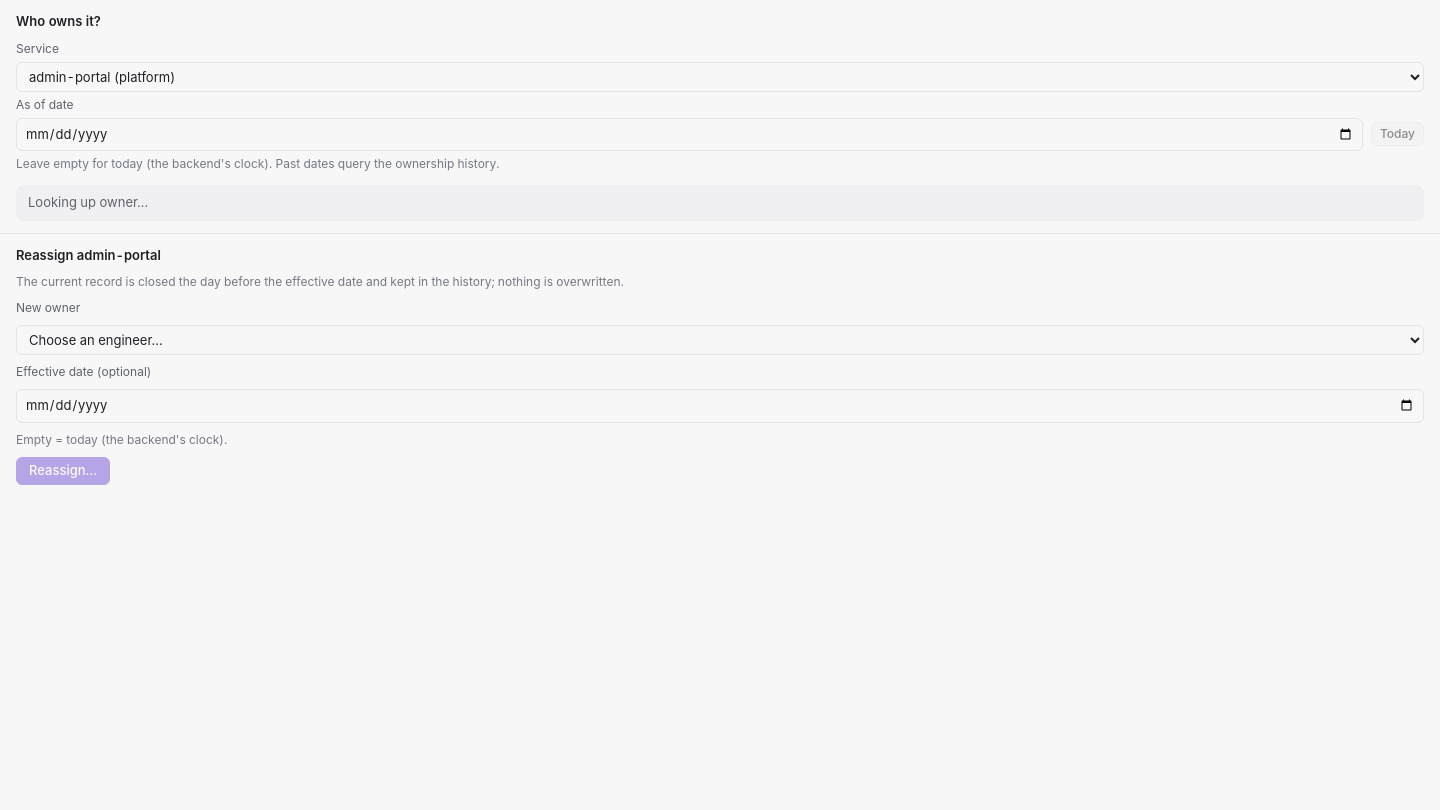
Test case: OwnersPanel service selection and the demo sequence › payments-api -> reassign to Ravi -> who owned it in July? shows the owner the API returns for July, not the new one
Select "payments-api (payments-platform)" in the dropdown labelled "Service". click: (720, 76)
box: x1=16 y1=62 x2=1424 y2=92
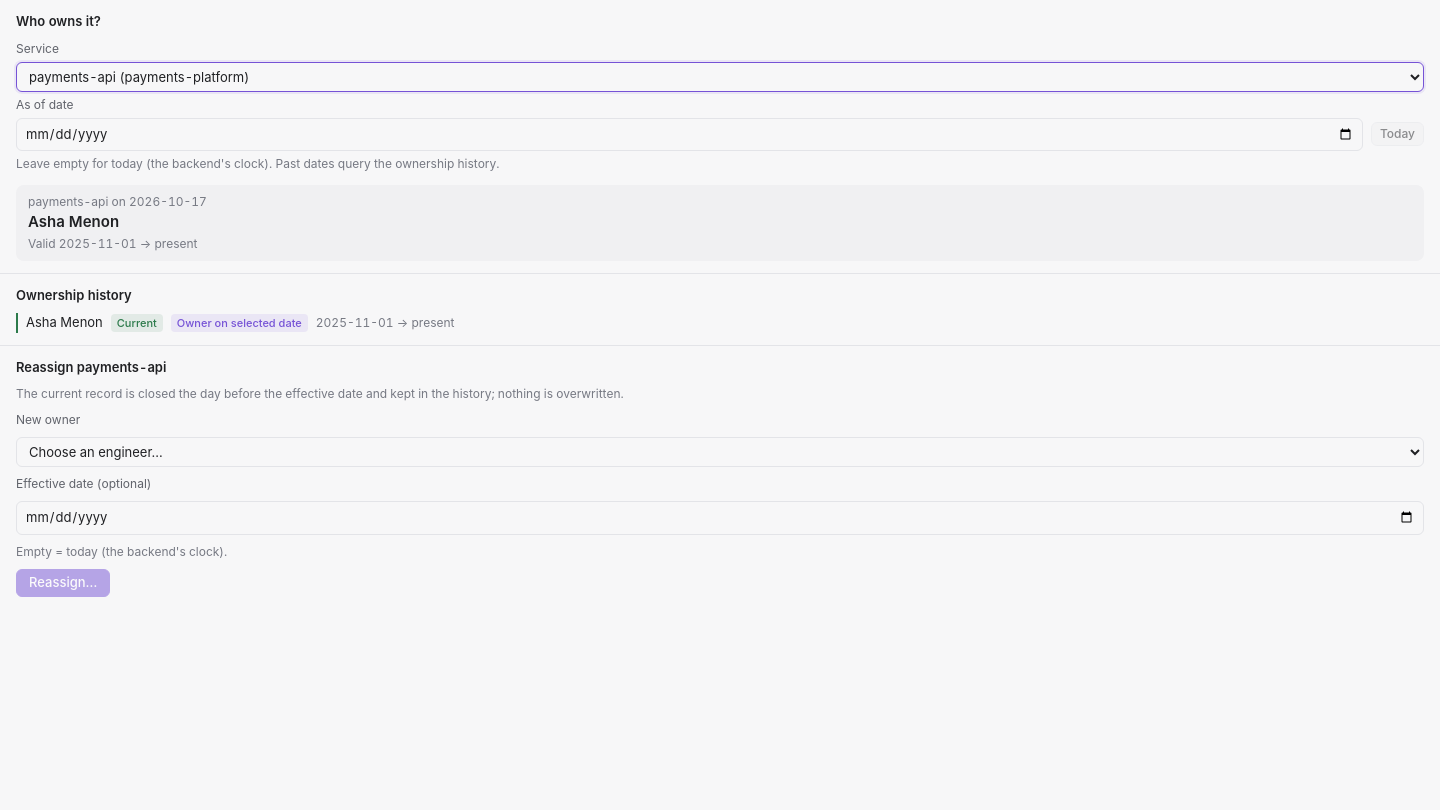
Check: the text "Asha Menon" below "2026-10-17" is shown, box x1=28 y1=212 x2=119 y2=231
Select "Ravi Iyer (platform)" in the dropdown labelled "New owner". click: (720, 452)
box: x1=16 y1=437 x2=1424 y2=467
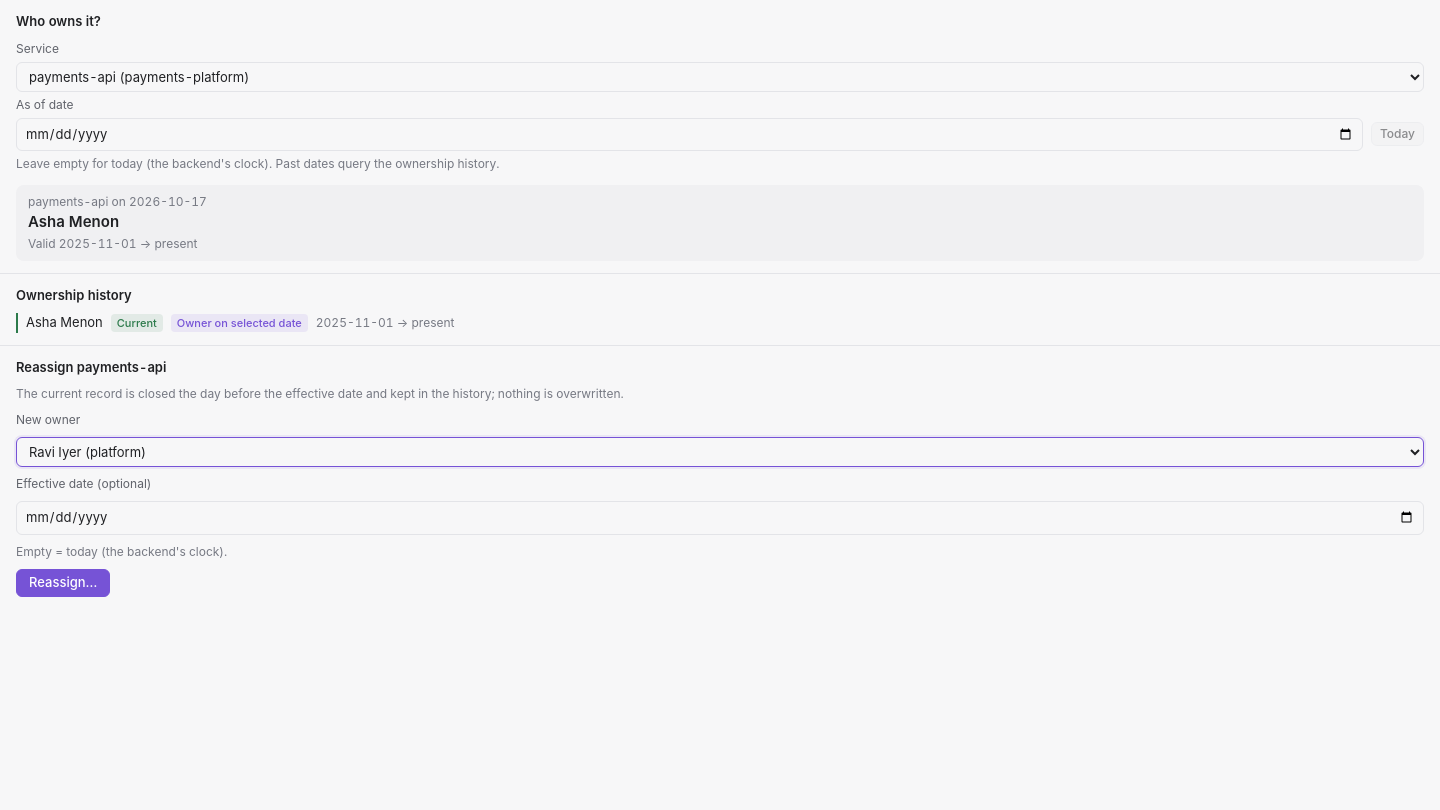
Click the button "Reassign…". click: click(63, 582)
box: x1=16 y1=568 x2=110 y2=596
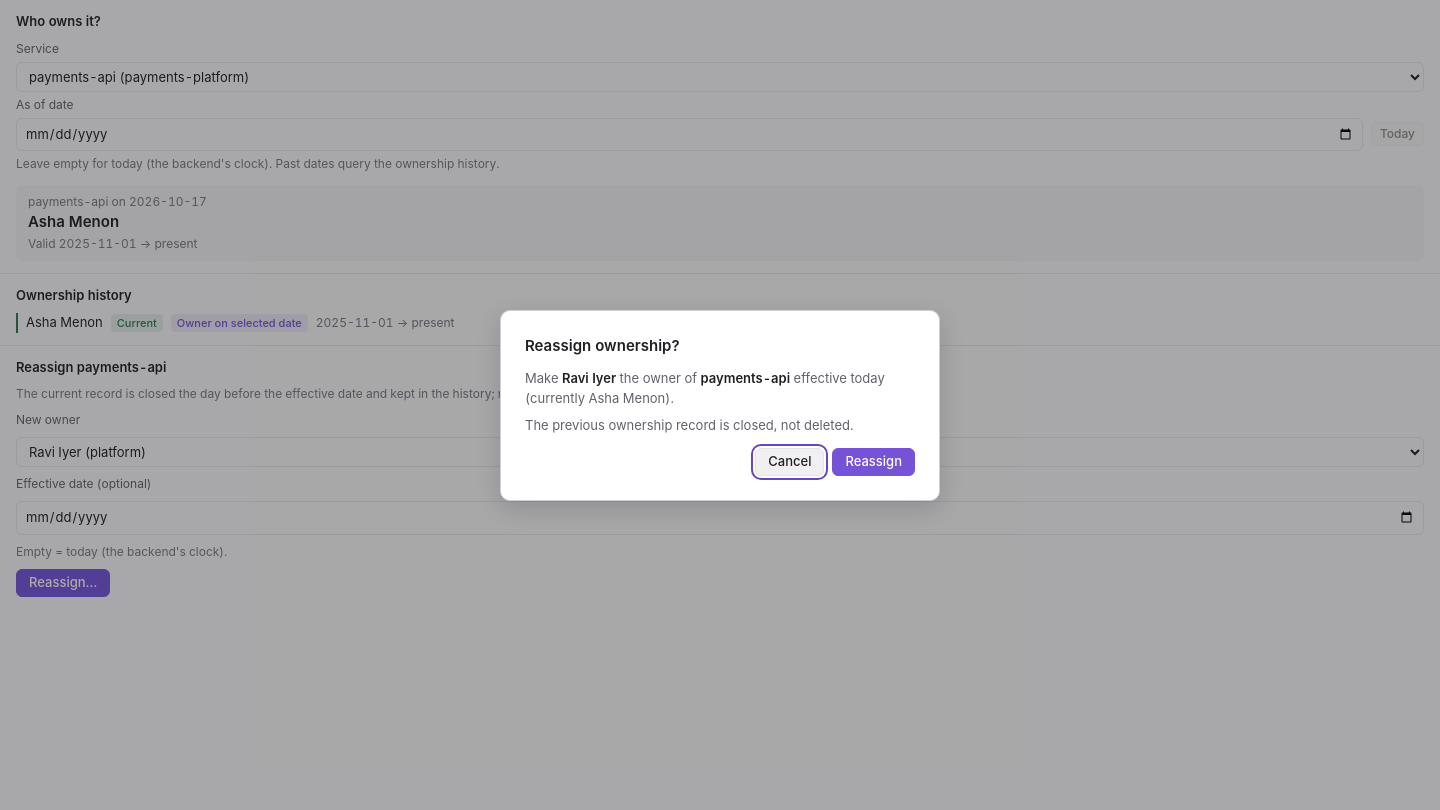
Click the button "Reassign". click: click(874, 462)
box: x1=832 y1=448 x2=915 y2=476
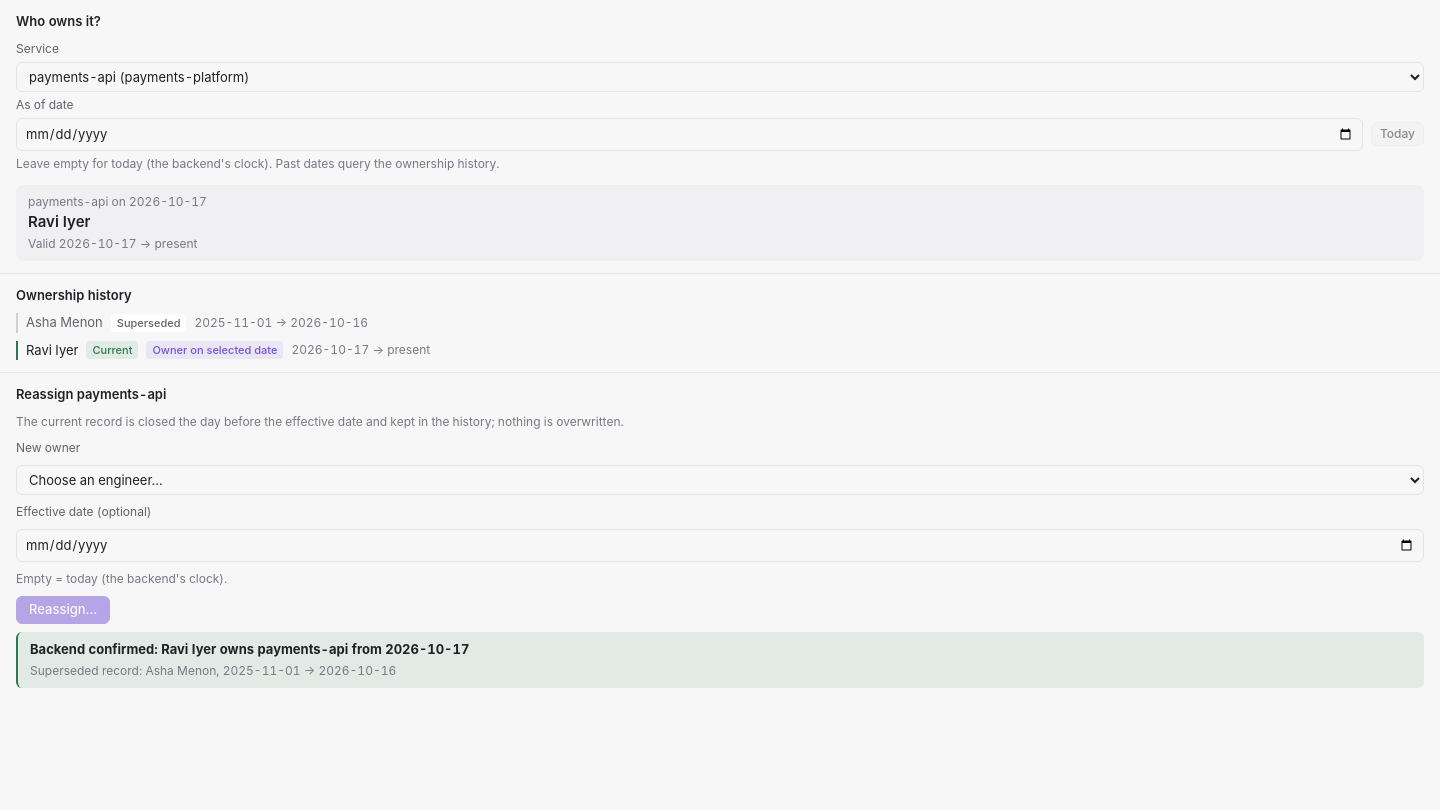
Check: the text "Ravi Iyer" below "As of date" is shown, box x1=28 y1=212 x2=90 y2=231
Type "2026-07-15" into the date field labelled "As of date". click: (689, 134)
box: x1=16 y1=118 x2=1363 y2=151
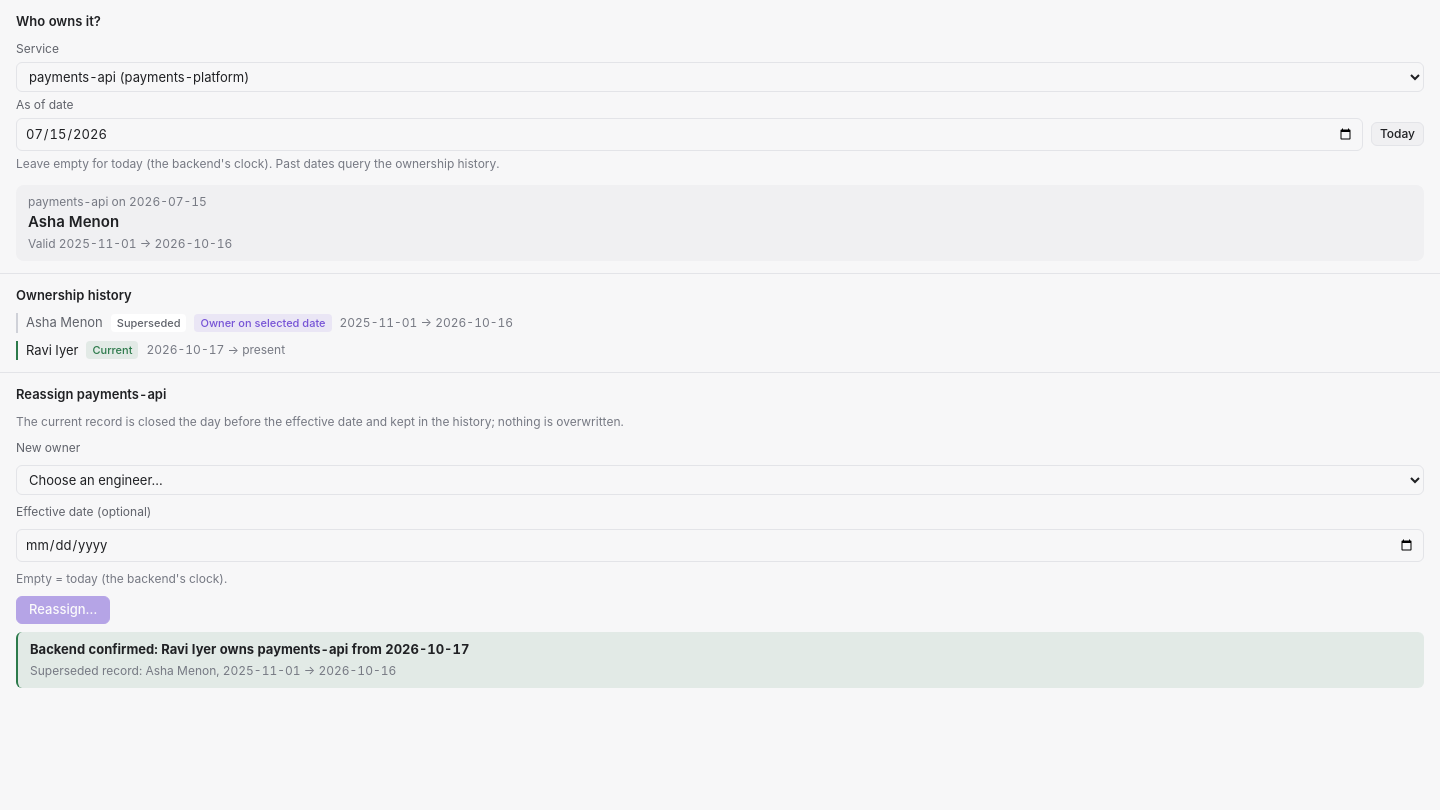
Check: the list item that starts with "Asha Menon" is shown, box x1=26 y1=314 x2=103 y2=330
Check: the text "payments-api on 2026-07-15" is shown, box x1=28 y1=194 x2=207 y2=209
Check: the text "Asha Menon" below "2026-07-15" is shown, box x1=28 y1=212 x2=119 y2=231
